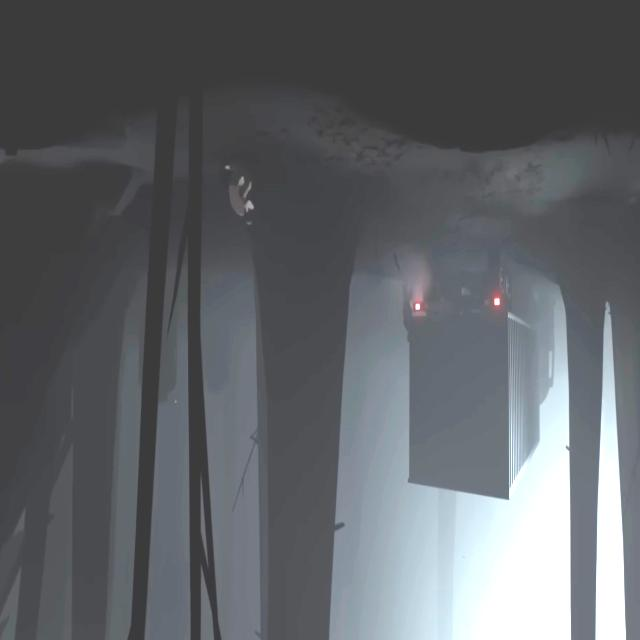boy: (223, 162, 256, 226)
